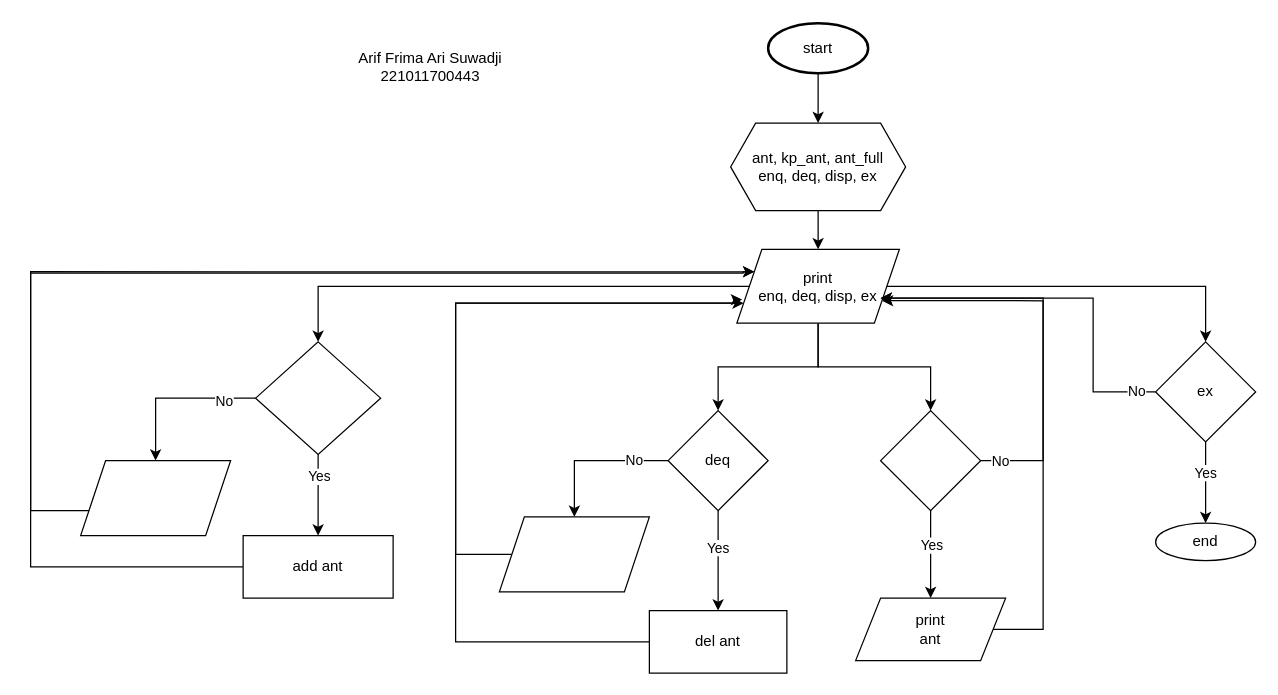
Image size: 1278x695. Some labels were removed from this diagram. Here are the shapes that lost their labels. From the top down, the box of each, then its label:
(254, 341, 381, 454): enq < kp_ant ?
(879, 409, 981, 511): disp
(79, 459, 231, 536): print ant_full
(498, 516, 649, 592): print ant_empt
